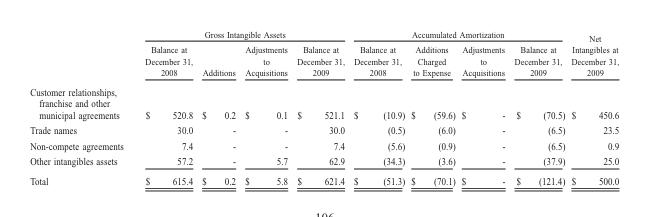table: (29, 28, 618, 186)
table column: (29, 28, 133, 186), (133, 28, 196, 186), (348, 28, 407, 186), (509, 28, 567, 186), (291, 28, 348, 186), (239, 28, 291, 186), (457, 28, 509, 186), (567, 28, 618, 186), (407, 28, 457, 186), (196, 28, 239, 186)
table column header: (29, 28, 618, 81)
table row: (29, 81, 618, 122), (29, 41, 618, 81), (29, 153, 618, 170), (29, 137, 618, 153), (29, 170, 618, 186), (29, 122, 618, 137), (29, 28, 618, 41)
table spanning cell: (348, 28, 567, 41), (133, 28, 348, 41), (567, 28, 618, 81)
